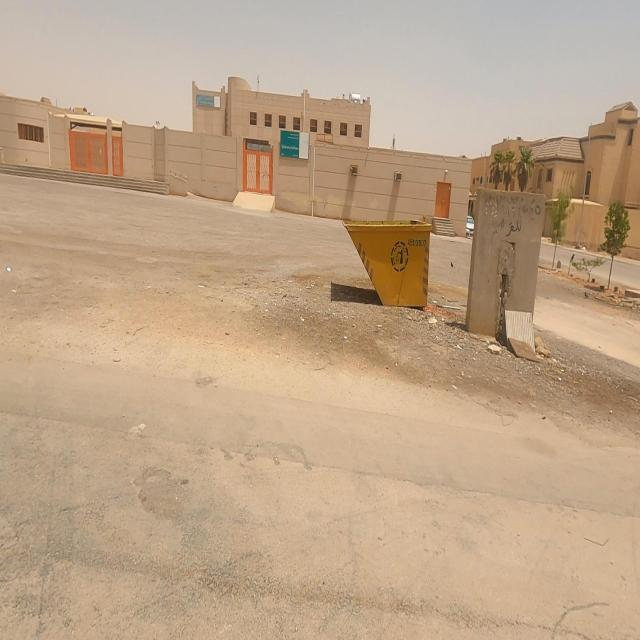Graffiti: (484, 194, 544, 238)
